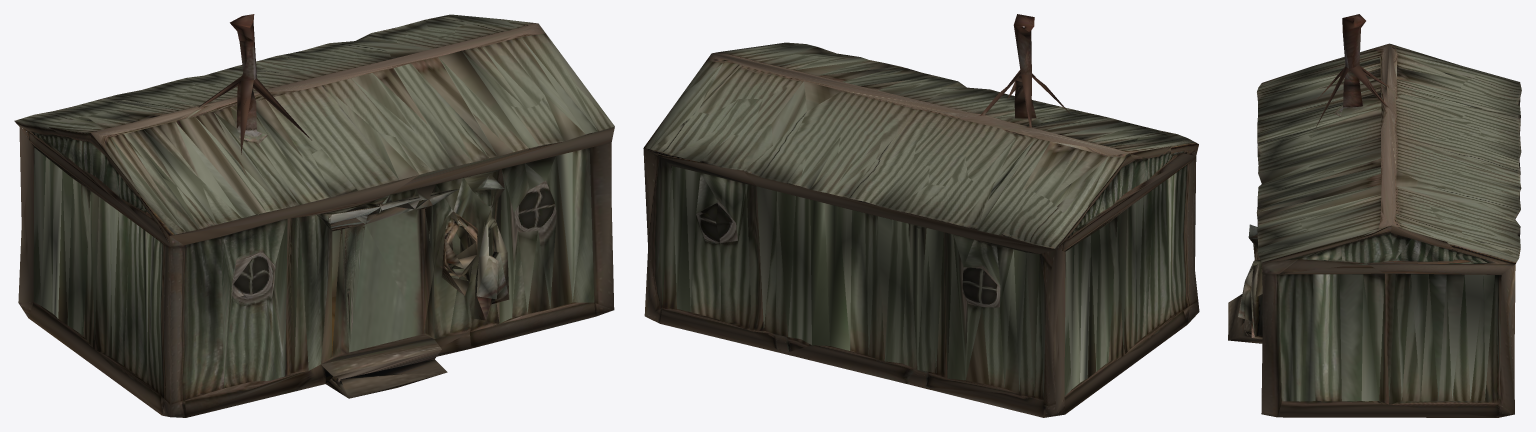
The model's file is dock_shed.glb.
3 renders of one model, left to right at view 1: azimuth 30°, elevation 25°; view 2: azimuth 150°, elevation 25°; view 3: azimuth 270°, elevation 25°, orthographic. The views are drawn at different scales.
Bounding box in the file's own units: 0.9887 × 0.7078 × 0.6757.
1 material, 1 textured.
